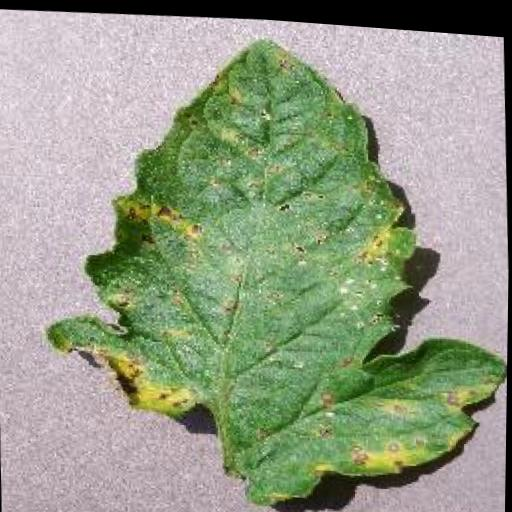Septoria: (33, 10, 512, 512)
